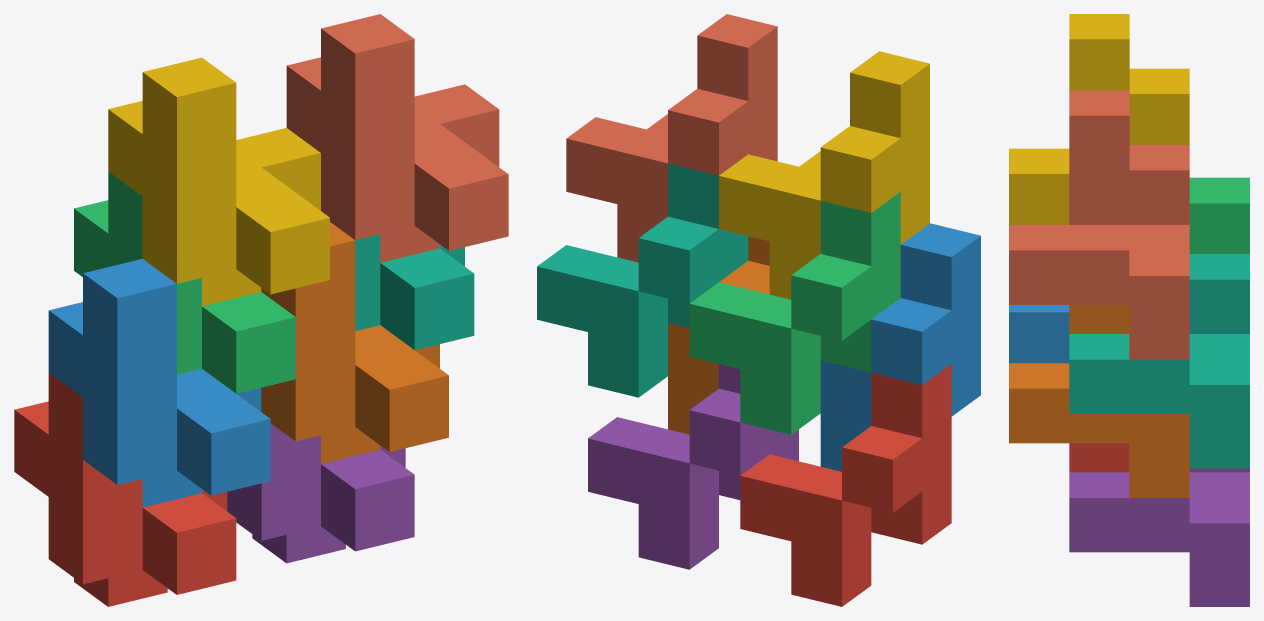
Rendered from tiling.obj.
The picture shows the model from 3 angles, left to right: view 1: azimuth 30°, elevation 25°; view 2: azimuth 150°, elevation 25°; view 3: azimuth 270°, elevation 25°; orthographic projection. The views are drawn at different scales.
Visible parts, largest first — view 1: copy_1_domain_4, copy_1_domain_8, copy_1_domain_2, copy_1_domain_1, copy_1_domain_6, copy_1_domain_5, copy_1_domain_3, copy_1_domain_7; view 2: copy_1_domain_1, copy_1_domain_3, copy_1_domain_4, copy_1_domain_7, copy_1_domain_8, copy_1_domain_5, copy_1_domain_2, copy_1_domain_6; view 3: copy_1_domain_8, copy_1_domain_7, copy_1_domain_5, copy_1_domain_4, copy_1_domain_6, copy_1_domain_3, copy_1_domain_2, copy_1_domain_1.
Boxes of the visible parts, x1=… form: copy_1_domain_4: x1=108, y1=57, x2=329, y2=306; copy_1_domain_8: x1=286, y1=14, x2=508, y2=262; copy_1_domain_2: x1=48, y1=259, x2=270, y2=507; copy_1_domain_1: x1=14, y1=373, x2=236, y2=606; copy_1_domain_6: x1=261, y1=222, x2=448, y2=463; copy_1_domain_5: x1=227, y1=423, x2=414, y2=563; copy_1_domain_3: x1=74, y1=171, x2=295, y2=393; copy_1_domain_7: x1=355, y1=234, x2=474, y2=349; copy_1_domain_1: x1=740, y1=364, x2=951, y2=606; copy_1_domain_3: x1=689, y1=192, x2=900, y2=434; copy_1_domain_4: x1=719, y1=51, x2=929, y2=299; copy_1_domain_7: x1=537, y1=163, x2=748, y2=397; copy_1_domain_8: x1=566, y1=14, x2=777, y2=262; copy_1_domain_5: x1=588, y1=364, x2=798, y2=569; copy_1_domain_2: x1=820, y1=223, x2=980, y2=471; copy_1_domain_6: x1=668, y1=236, x2=769, y2=434; copy_1_domain_8: x1=1009, y1=90, x2=1189, y2=359; copy_1_domain_7: x1=1069, y1=254, x2=1249, y2=468; copy_1_domain_5: x1=1069, y1=468, x2=1249, y2=606; copy_1_domain_4: x1=1009, y1=14, x2=1189, y2=224; copy_1_domain_6: x1=1009, y1=305, x2=1189, y2=497; copy_1_domain_3: x1=1189, y1=177, x2=1249, y2=253; copy_1_domain_2: x1=1009, y1=305, x2=1069, y2=363; copy_1_domain_1: x1=1069, y1=443, x2=1129, y2=472.
Size of the model in its own units: 7 by 9 by 4.
